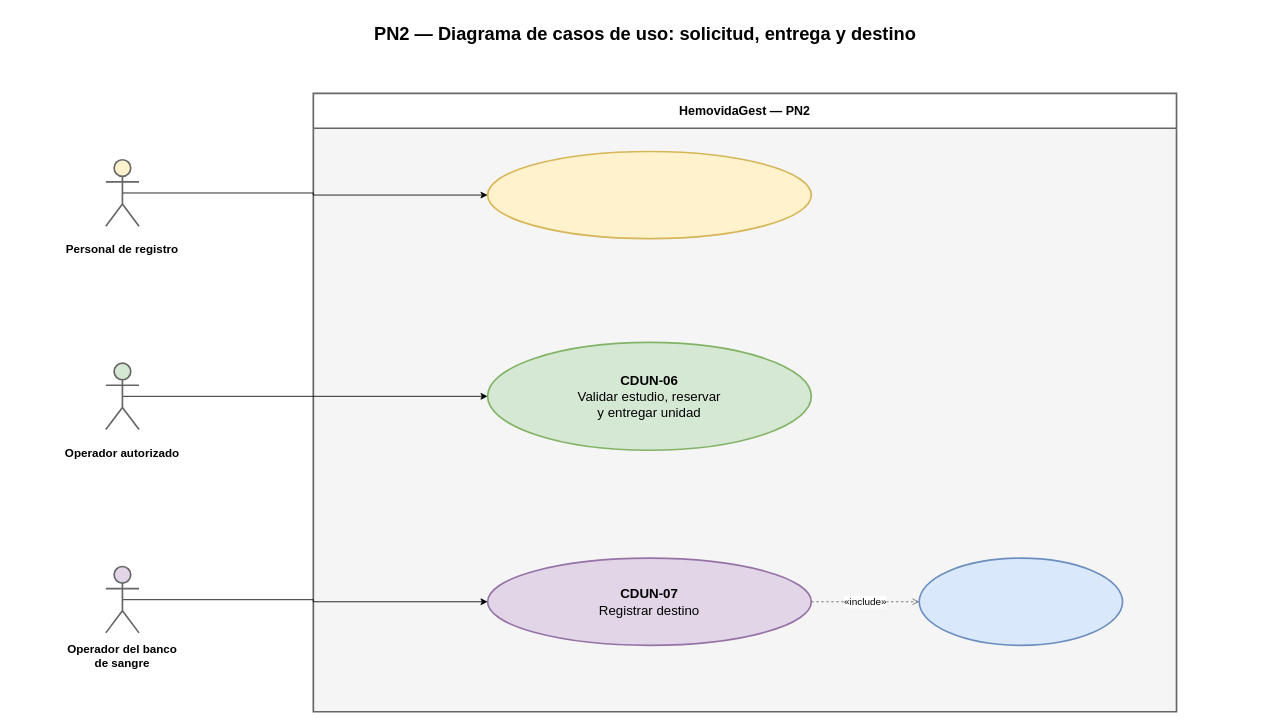
Image size: 1282x726. Some labels were removed from this diagram. The shapes that lost their labels are listed below. From the top down, each one's box as (x1, y1, x2, y2) in pixels, then its label:
(486, 150, 812, 239): CDUN-05 Registrar solicitud transfusional
(918, 557, 1123, 646): CDUN-08 Emitir comprobante de destino
